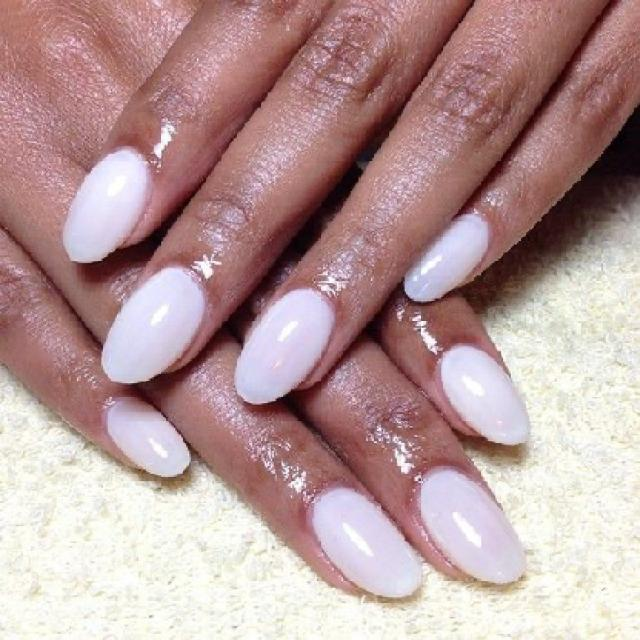Nail: (418, 468, 525, 584), (311, 488, 421, 598), (102, 268, 206, 383), (235, 289, 335, 404), (62, 148, 150, 262), (439, 344, 530, 445), (404, 214, 490, 302), (106, 398, 191, 478)
